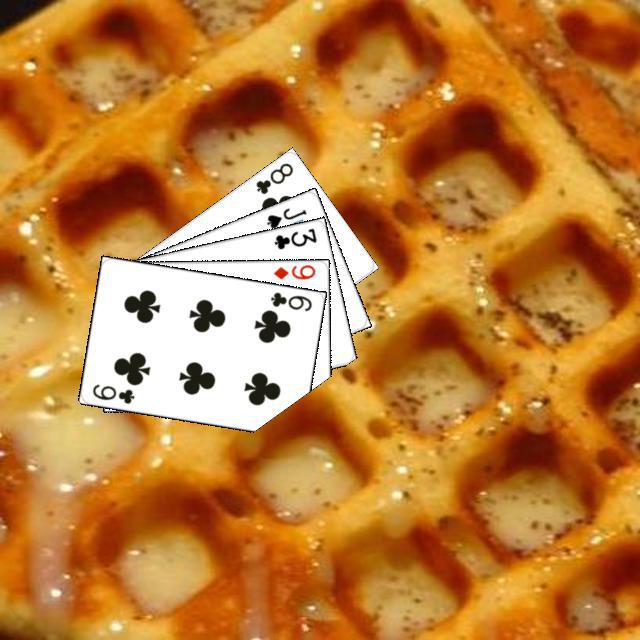3c: (269, 223, 318, 251)
6c: (265, 287, 314, 313), (87, 379, 136, 405)
8c: (251, 158, 295, 196)
9d: (268, 261, 317, 281)
Js: (262, 203, 308, 230)
